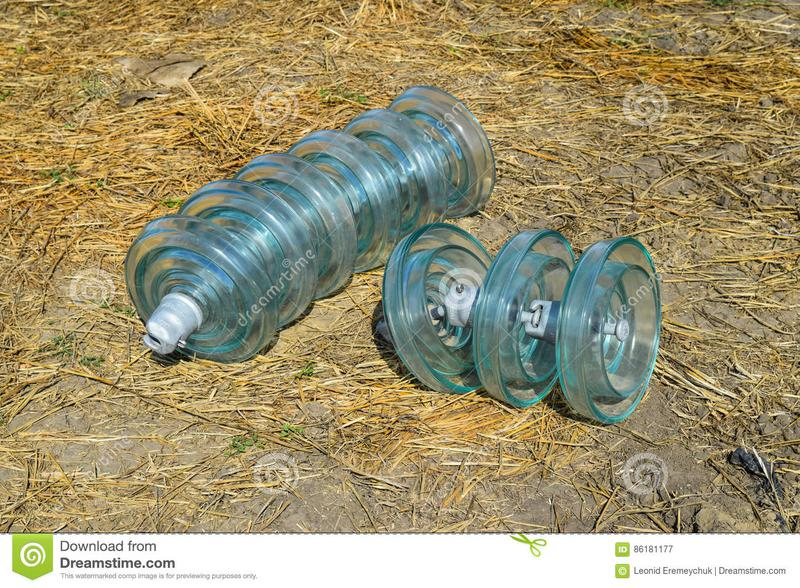isolator: (123, 83, 497, 363), (381, 223, 662, 425)
